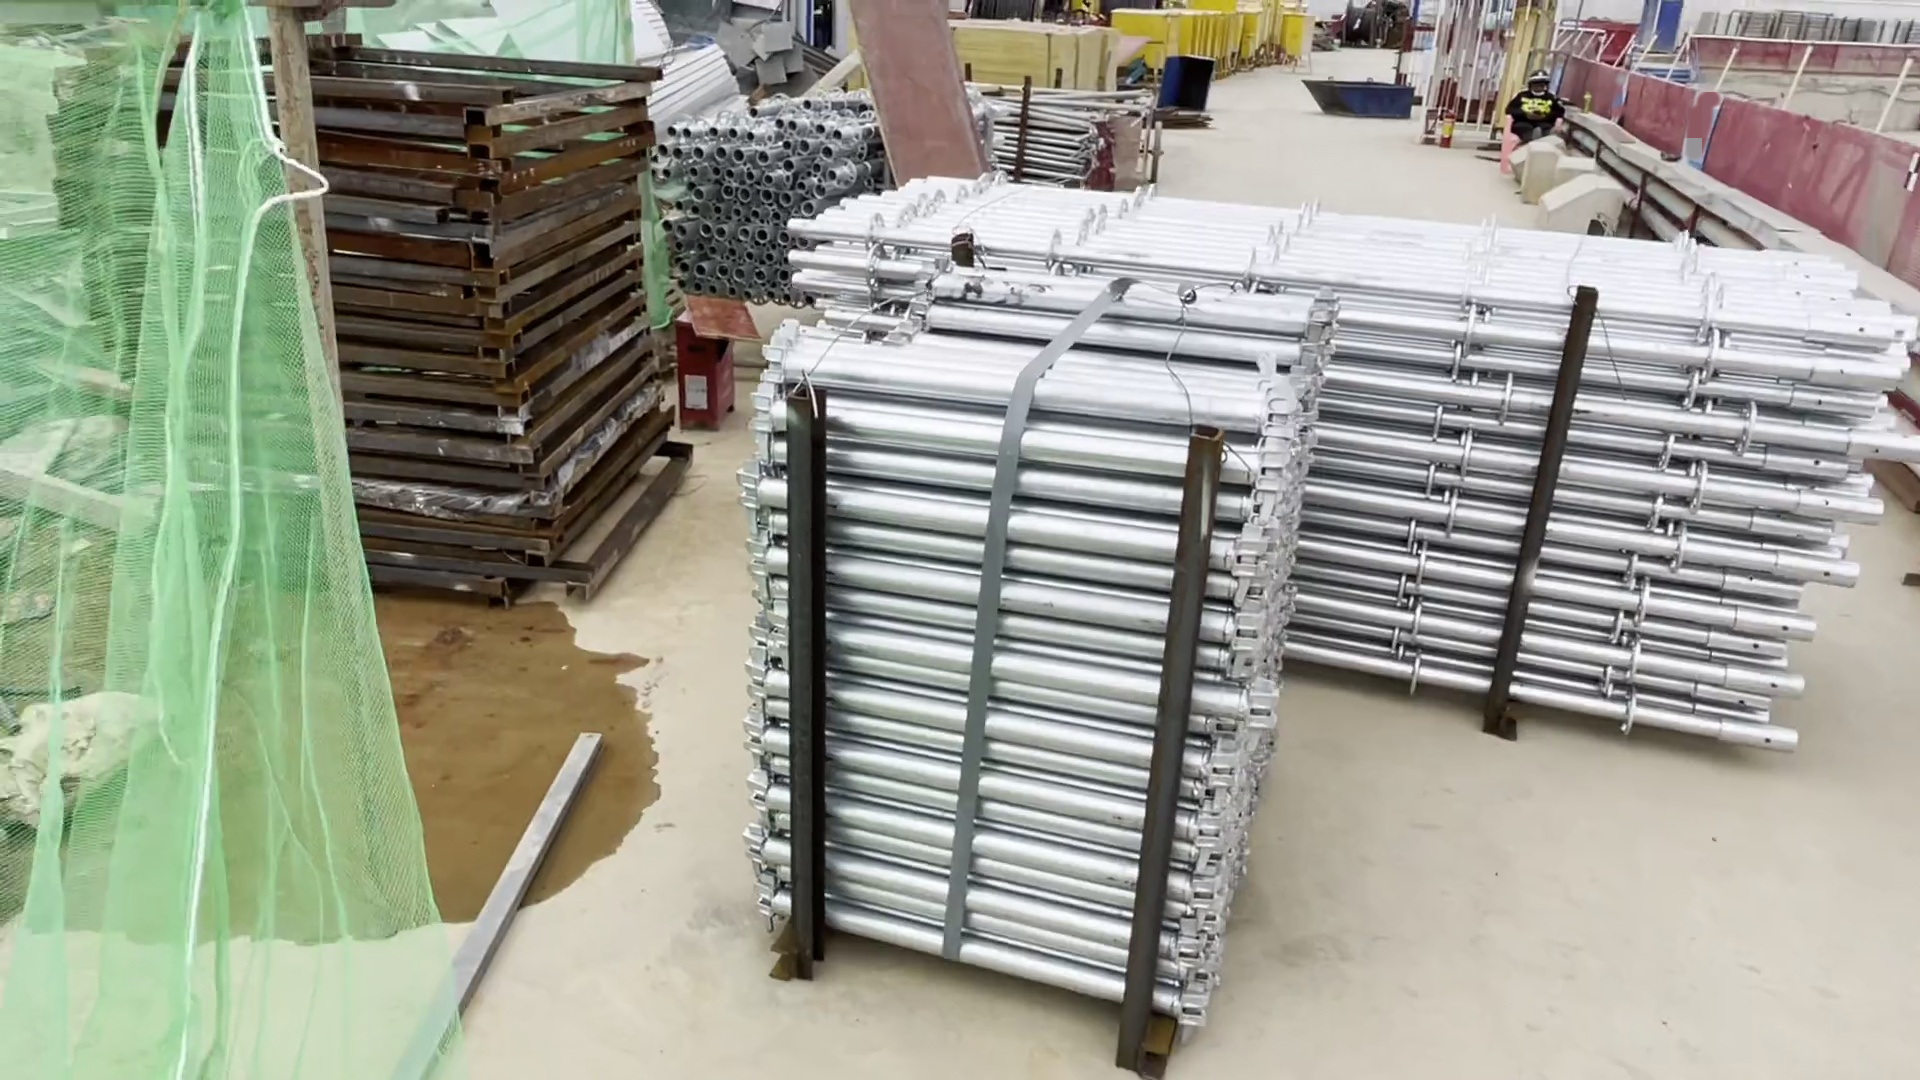fence: (1716, 108, 1874, 247), (1619, 76, 1706, 157)
scaffold: (829, 148, 1797, 752), (752, 305, 1253, 1055), (657, 102, 827, 305)
